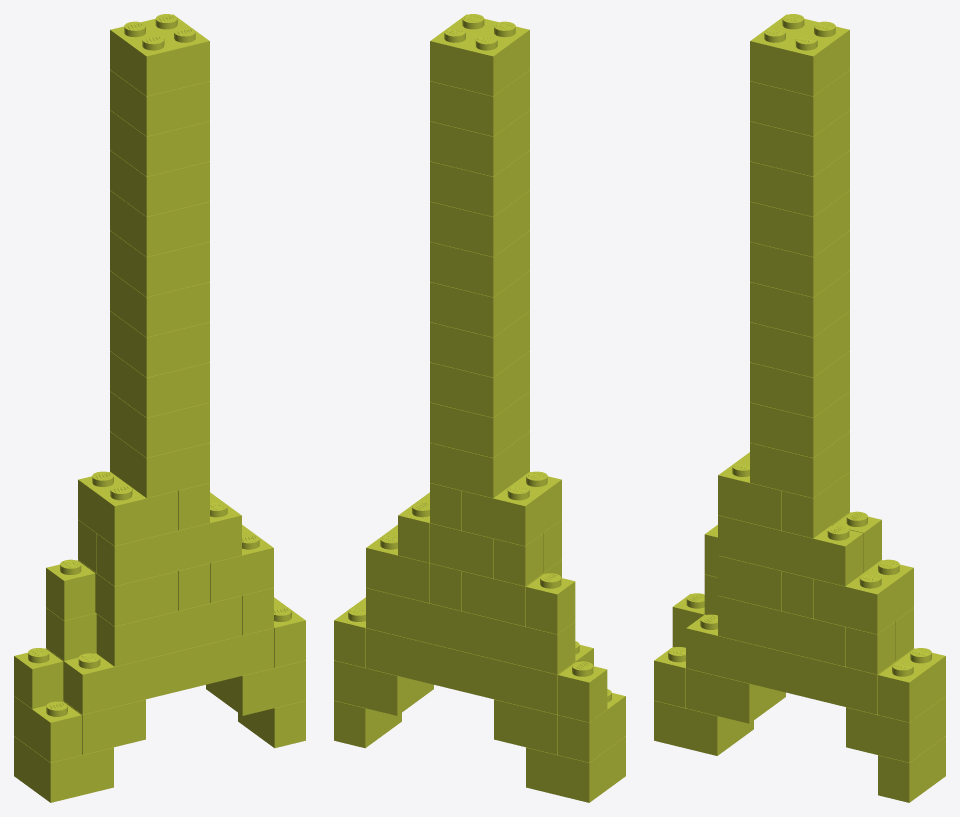
File: brickgpt_c39c74af_1_a_sharply_contoured_guitar_wit_seed42.glb
3 views of the same model, side by side, from view 1: azimuth 30°, elevation 25°; view 2: azimuth 150°, elevation 25°; view 3: azimuth 330°, elevation 25° (orthographic).
Visible parts, largest first — view 1: 00007_2456.DAT, 00019_3010.DAT, 00032_3003.DAT, 00010_3010.DAT, 00021_3003.DAT, 00031_3003.DAT, 00023_3003.DAT, 00030_3003.DAT, 00024_3003.DAT, 00025_3003.DAT, 00026_3003.DAT, 00027_3003.DAT (+18 smaller); view 2: 00011_3009.DAT, 00007_2456.DAT, 00032_3003.DAT, 00021_3003.DAT, 00031_3003.DAT, 00023_3003.DAT, 00030_3003.DAT, 00024_3003.DAT, 00025_3003.DAT, 00026_3003.DAT, 00027_3003.DAT, 00029_3003.DAT (+18 smaller); view 3: 00007_2456.DAT, 00019_3010.DAT, 00032_3003.DAT, 00012_3003.DAT, 00010_3010.DAT, 00003_3003.DAT, 00031_3003.DAT, 00023_3003.DAT, 00030_3003.DAT, 00024_3003.DAT, 00025_3003.DAT, 00026_3003.DAT (+18 smaller).
Part boxes in pixels (x1=…): 00007_2456.DAT: x1=46, y1=628, x2=273, y2=714; 00019_3010.DAT: x1=96, y1=502, x2=241, y2=586; 00032_3003.DAT: x1=110, y1=14, x2=209, y2=96; 00010_3010.DAT: x1=96, y1=595, x2=241, y2=666; 00021_3003.DAT: x1=78, y1=471, x2=177, y2=546; 00031_3003.DAT: x1=110, y1=70, x2=209, y2=136; 00023_3003.DAT: x1=110, y1=391, x2=209, y2=457; 00030_3003.DAT: x1=110, y1=110, x2=209, y2=176; 00024_3003.DAT: x1=110, y1=351, x2=209, y2=417; 00025_3003.DAT: x1=110, y1=311, x2=209, y2=377; 00026_3003.DAT: x1=110, y1=271, x2=209, y2=337; 00027_3003.DAT: x1=110, y1=230, x2=209, y2=297; 00011_3009.DAT: x1=366, y1=588, x2=575, y2=674; 00007_2456.DAT: x1=366, y1=628, x2=593, y2=714; 00032_3003.DAT: x1=430, y1=14, x2=529, y2=96; 00021_3003.DAT: x1=462, y1=471, x2=561, y2=546; 00031_3003.DAT: x1=430, y1=70, x2=529, y2=136; 00023_3003.DAT: x1=430, y1=391, x2=529, y2=457; 00030_3003.DAT: x1=430, y1=110, x2=529, y2=176; 00024_3003.DAT: x1=430, y1=351, x2=529, y2=417; 00025_3003.DAT: x1=430, y1=311, x2=529, y2=377; 00026_3003.DAT: x1=430, y1=271, x2=529, y2=337; 00027_3003.DAT: x1=430, y1=230, x2=529, y2=297; 00029_3003.DAT: x1=430, y1=150, x2=529, y2=216; 00007_2456.DAT: x1=686, y1=614, x2=913, y2=714; 00019_3010.DAT: x1=718, y1=515, x2=863, y2=586; 00032_3003.DAT: x1=750, y1=14, x2=849, y2=96; 00012_3003.DAT: x1=814, y1=559, x2=913, y2=634; 00010_3010.DAT: x1=718, y1=595, x2=845, y2=666; 00003_3003.DAT: x1=846, y1=696, x2=945, y2=762; 00031_3003.DAT: x1=750, y1=70, x2=849, y2=136; 00023_3003.DAT: x1=750, y1=391, x2=849, y2=457; 00030_3003.DAT: x1=750, y1=110, x2=849, y2=176; 00024_3003.DAT: x1=750, y1=351, x2=849, y2=417; 00025_3003.DAT: x1=750, y1=311, x2=849, y2=377; 00026_3003.DAT: x1=750, y1=271, x2=849, y2=337.
Size of the model in its own units: 0.0638 by 0.1743 by 0.0158.
